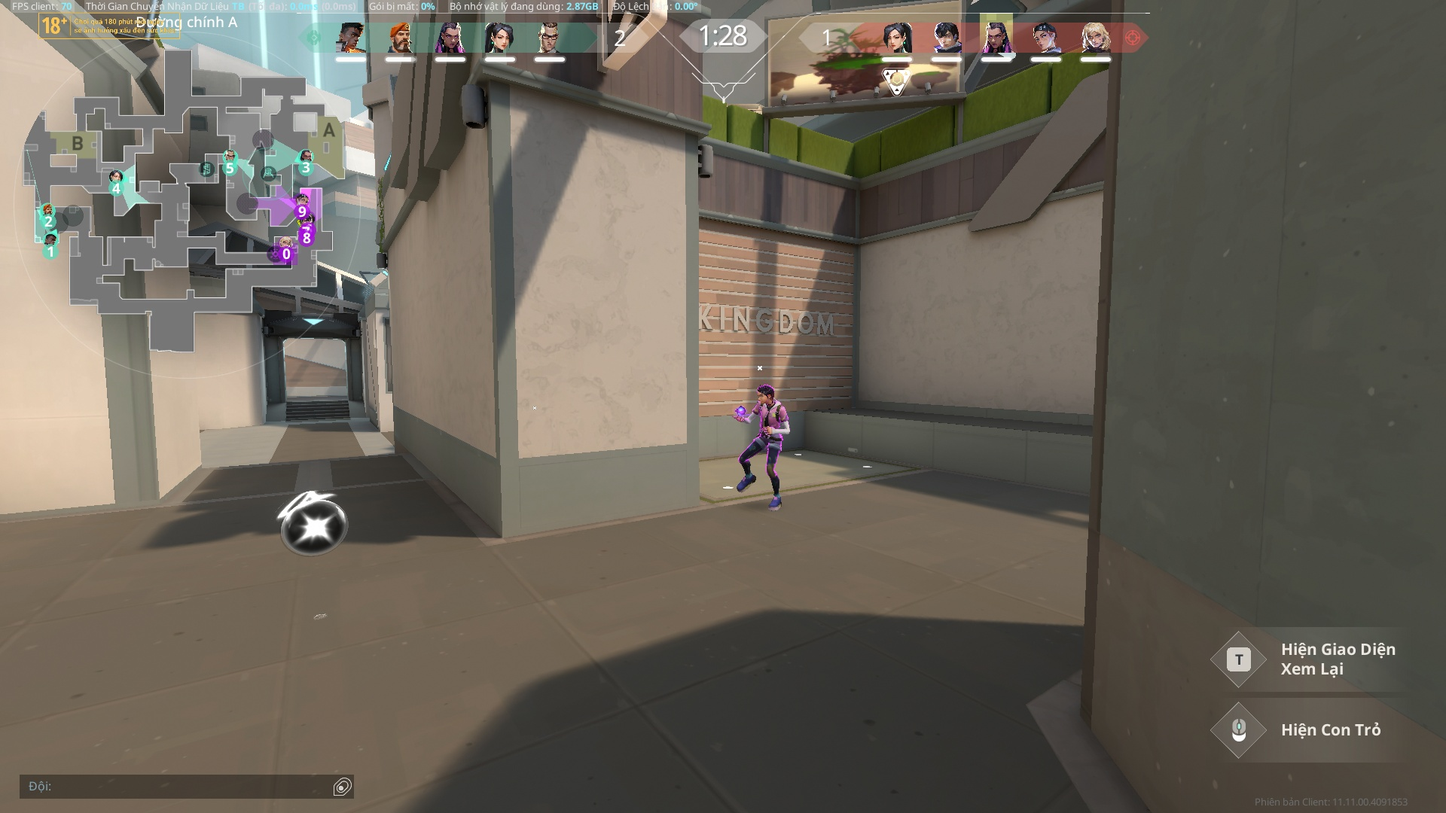body: (752, 400, 789, 440)
head: (755, 383, 776, 403)
